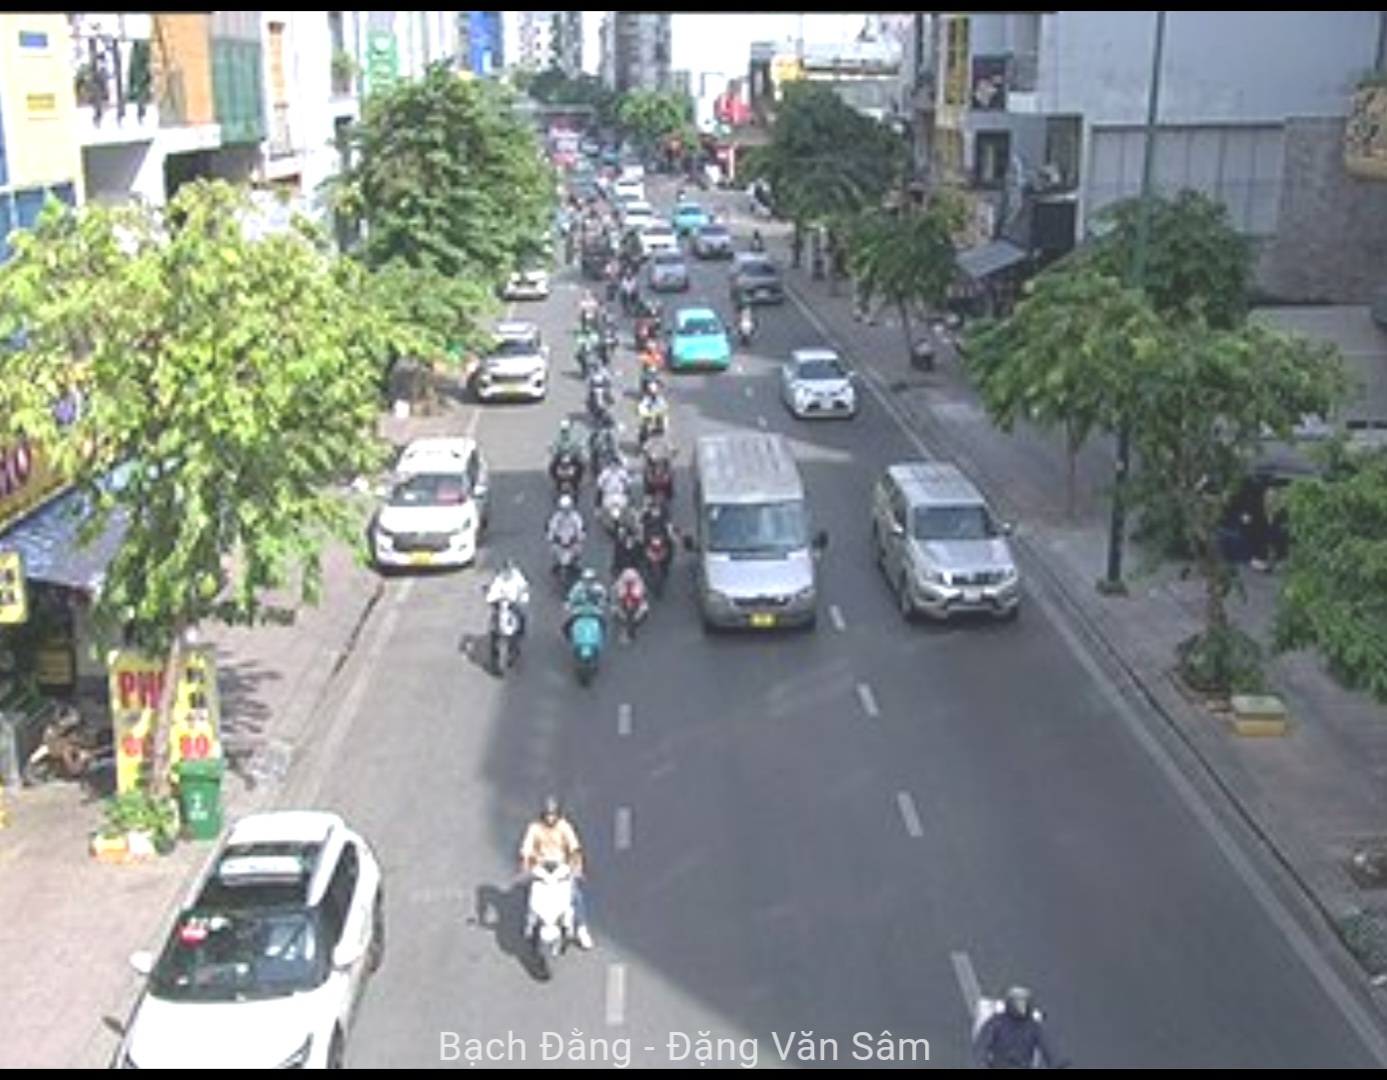car: (145, 807, 369, 1080), (687, 437, 825, 634), (868, 462, 1028, 630), (373, 440, 489, 570), (473, 325, 549, 404), (777, 351, 857, 422), (663, 311, 735, 371), (730, 253, 786, 307), (648, 252, 692, 294)
